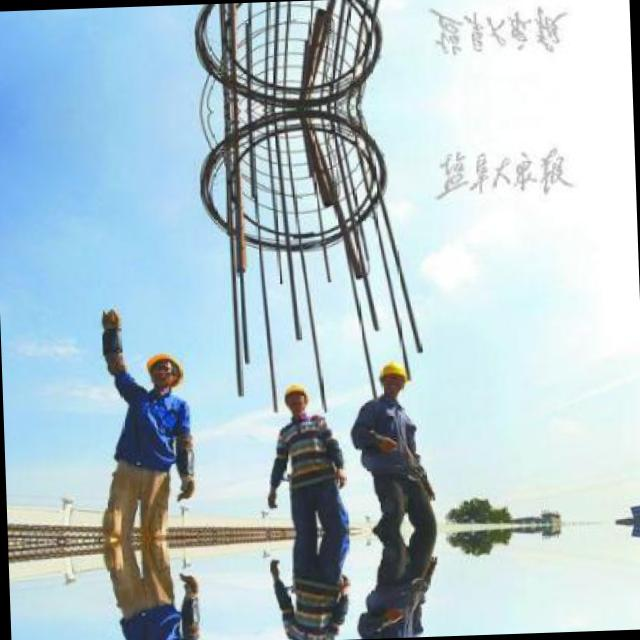helmet: (144, 348, 182, 392), (377, 356, 409, 396), (280, 382, 310, 414)
